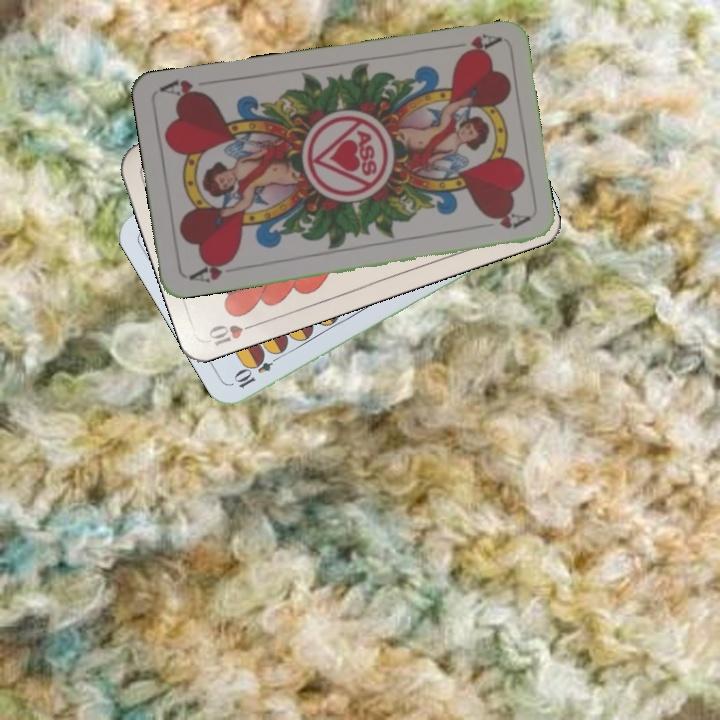E10: (230, 349, 285, 391)
H10: (203, 318, 262, 349)
HA: (443, 29, 502, 61), (184, 254, 238, 286)
